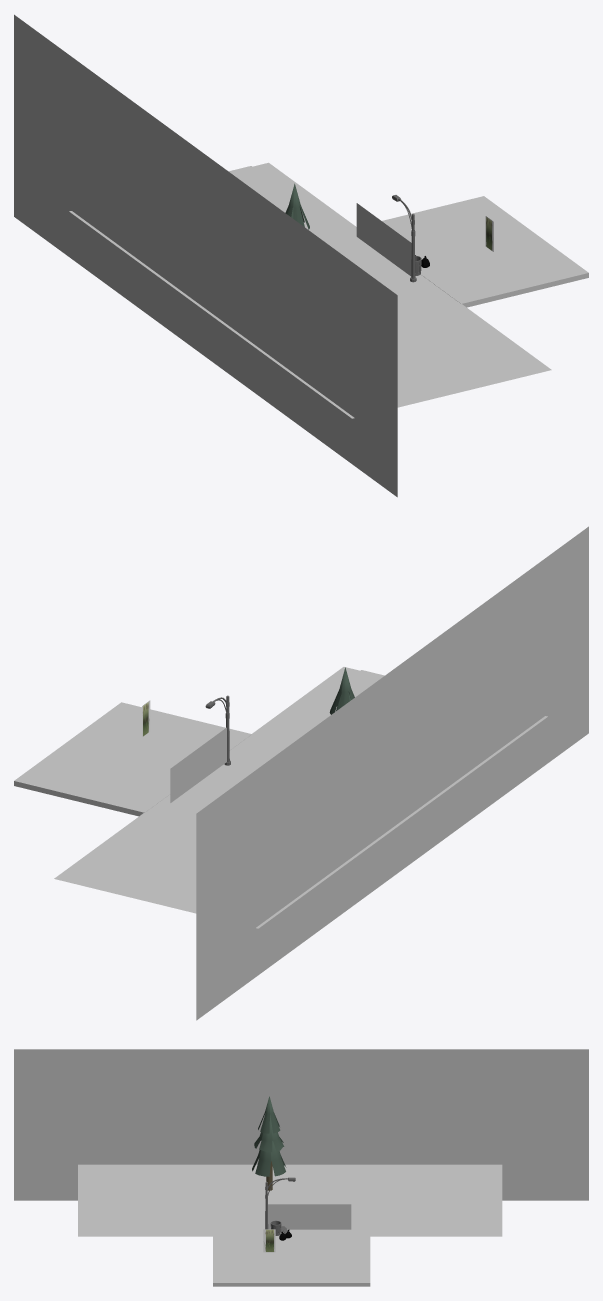
File: details.fbx
3 renders of one model, top to bottom at view 1: azimuth 30°, elevation 25°; view 2: azimuth 150°, elevation 25°; view 3: azimuth 270°, elevation 25°, orthographic. The views are drawn at different scales.
Visible parts, largest first — view 1: background, parking_lot1, road1, ground, wirefence, wirefence1; view 2: background, parking_lot1, road1, ground, wirefence1, wirefence; view 3: background, ground, road1, parking_lot1, tree, wirefence, wirefence1.
Boxes of the visible parts, box(x1,y1,x2,y2) form: background: box(14, 14, 397, 497); parking_lot1: box(382, 196, 588, 307); road1: box(229, 166, 534, 391); ground: box(69, 162, 551, 418); wirefence: box(356, 203, 384, 256); wirefence1: box(384, 223, 411, 276); background: box(196, 526, 588, 1020); parking_lot1: box(14, 702, 251, 816); road1: box(72, 670, 384, 900); ground: box(54, 667, 547, 928); wirefence1: box(198, 727, 226, 782); wirefence: box(170, 748, 198, 802); background: box(14, 1049, 588, 1200); ground: box(78, 1164, 502, 1236); road1: box(78, 1202, 502, 1229); parking_lot1: box(213, 1236, 370, 1286); tree: box(252, 1096, 286, 1190); wirefence: box(309, 1204, 351, 1229); wirefence1: box(268, 1204, 309, 1229).
Bounding box in the file's own units: 77.82 × 46.02 × 158.
